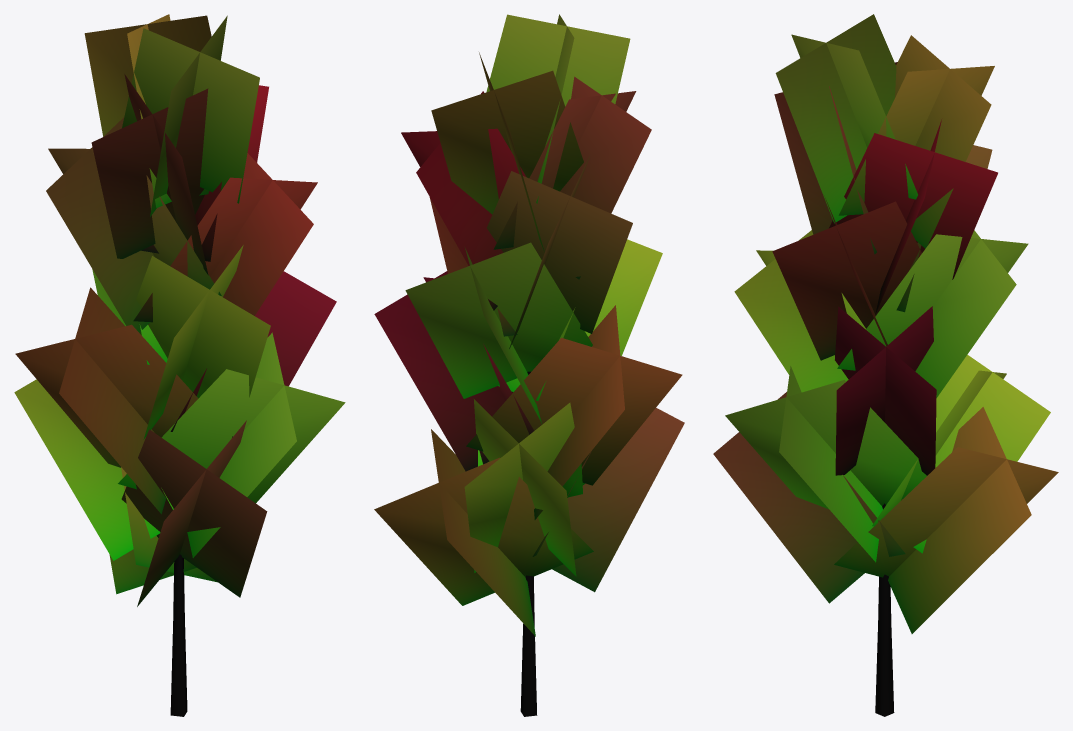
The model's file is SuperTree_20.fbx.
The picture shows the model from 3 angles, left to right: view 1: azimuth 30°, elevation 25°; view 2: azimuth 150°, elevation 25°; view 3: azimuth 270°, elevation 25°; orthographic projection. The views are drawn at different scales.
Visible parts, largest first — view 1: SuperTree_20; view 2: SuperTree_20; view 3: SuperTree_20.
Boxes of the visible parts, box(x1,y1,x2,y2) form: SuperTree_20: box(14, 14, 345, 716); SuperTree_20: box(374, 14, 684, 716); SuperTree_20: box(713, 14, 1058, 716).
Bounding box in the file's own units: 403 × 990 × 457.
